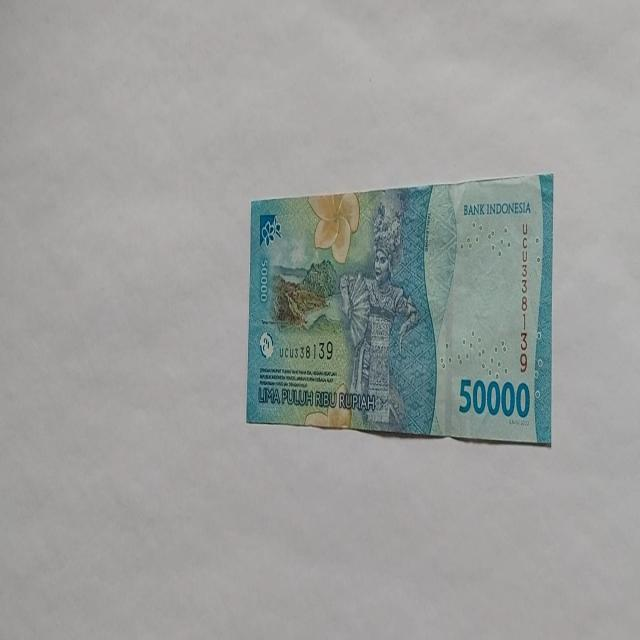lima puluh ribu rupiah: (245, 172, 554, 446)
